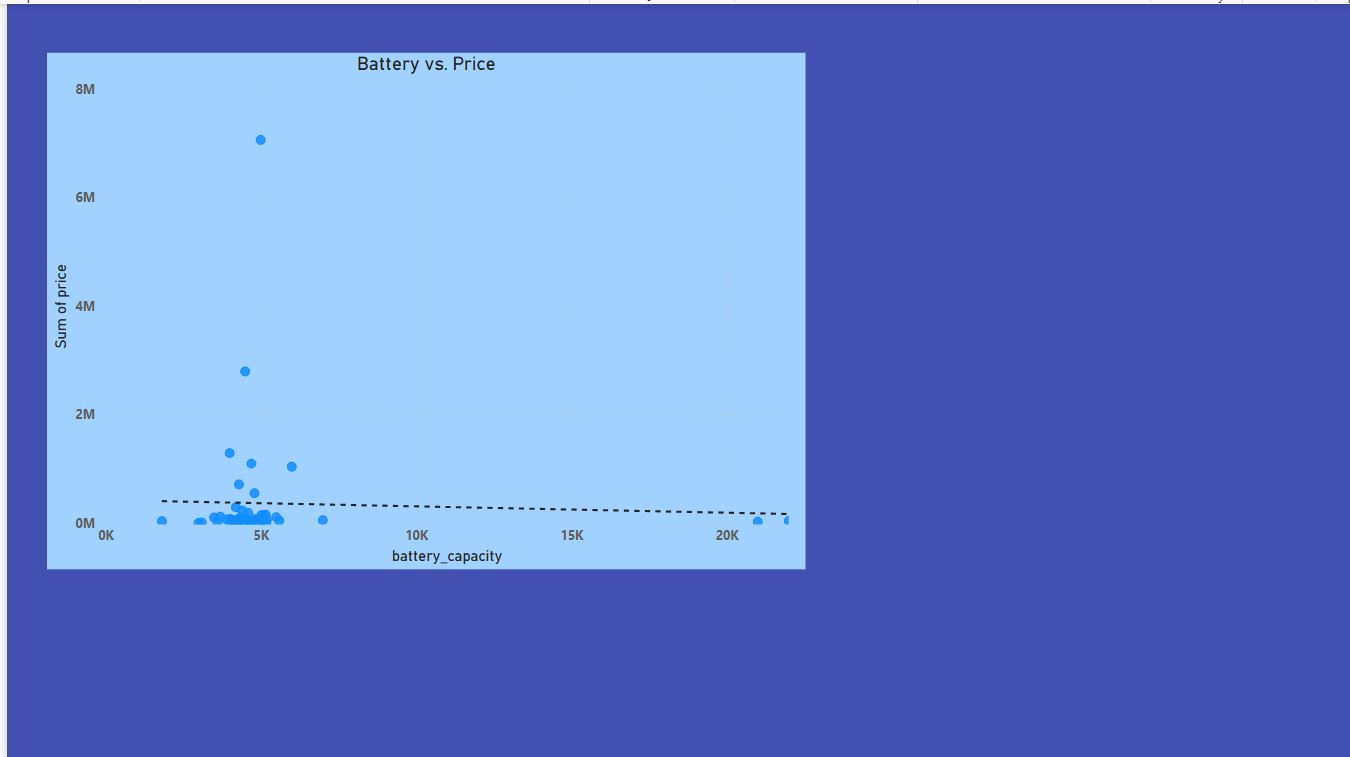

The dashboard page shown, as its layout file describes it:
{"tool":"powerbi","page":{"name":"Page 2","canvas":[1280,720],"ordinal":1},"visuals":[{"type":"scatterChart","title":"Battery vs. Price","fields":{"Y":["Sum(smartphones_dataset.price)"],"X":["smartphones_dataset.battery_capacity"]},"box":[38.6,45.8,722.7,492.2],"z":0}]}

Visuals, with their boxes in screenshot pixels (x1, y1, x2, y2), scaled from the page's 1280x720 canvas onto the 1350x757 screenshot:
"Battery vs. Price" scatterChart: detection(41, 48, 803, 566)
